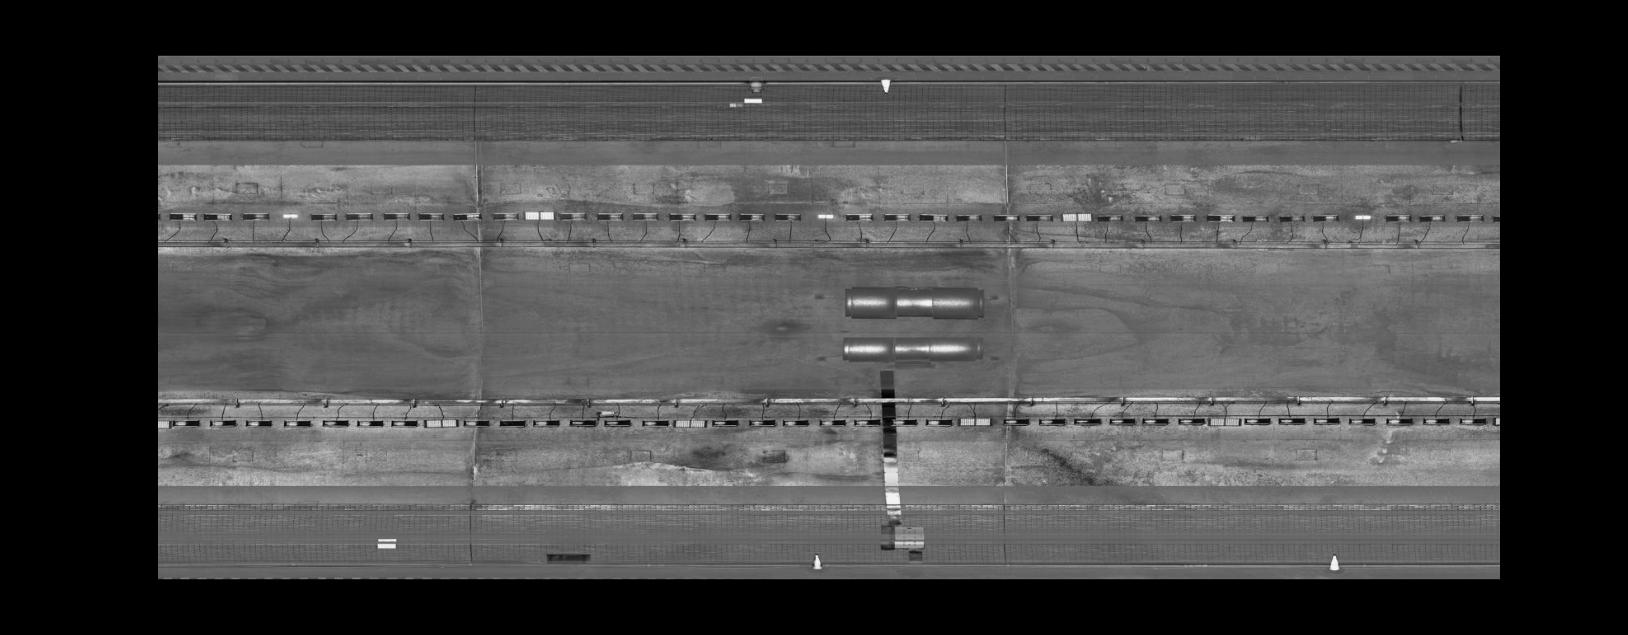light: (420, 417, 460, 430), (557, 209, 590, 223), (672, 417, 709, 430), (1059, 211, 1093, 224), (664, 210, 699, 223), (522, 209, 557, 222), (344, 209, 375, 223), (1204, 212, 1238, 225), (594, 210, 627, 223), (450, 210, 483, 223), (199, 211, 235, 223), (1024, 211, 1056, 224), (1168, 211, 1199, 224), (629, 210, 660, 223), (380, 210, 411, 223), (1205, 416, 1242, 427), (957, 416, 994, 427), (166, 211, 199, 223), (916, 212, 951, 223), (1454, 211, 1486, 223), (702, 211, 734, 223), (238, 211, 272, 222), (1239, 213, 1270, 225), (1132, 212, 1163, 224), (953, 211, 984, 223), (881, 211, 913, 223), (489, 210, 520, 222), (416, 210, 447, 222), (308, 211, 340, 223), (747, 416, 778, 429), (567, 416, 598, 429), (1457, 415, 1490, 426), (1383, 212, 1413, 224), (991, 211, 1021, 223), (843, 211, 875, 222), (496, 417, 528, 429), (460, 416, 492, 427), (1094, 213, 1125, 224), (736, 212, 767, 223), (1242, 415, 1273, 426), (999, 416, 1030, 427), (889, 416, 920, 427), (711, 416, 742, 427), (353, 418, 387, 429), (319, 417, 353, 427), (205, 417, 239, 427), (1309, 213, 1342, 223), (1036, 416, 1069, 426), (280, 418, 314, 429), (241, 418, 274, 429), (1277, 213, 1307, 224), (852, 417, 883, 429), (1416, 213, 1448, 223), (1420, 416, 1453, 426), (1383, 416, 1415, 426), (1346, 416, 1378, 426), (1309, 416, 1341, 426), (1275, 416, 1307, 426), (1071, 416, 1104, 426), (771, 212, 803, 222), (1176, 416, 1208, 426), (1139, 416, 1170, 426), (640, 418, 671, 429), (603, 418, 634, 429), (389, 419, 420, 430), (924, 417, 954, 427), (817, 417, 847, 427), (781, 417, 811, 427), (530, 418, 562, 427), (171, 418, 203, 427), (1108, 416, 1137, 425), (1351, 212, 1375, 222), (278, 212, 302, 220), (814, 212, 835, 221), (157, 419, 171, 429), (1490, 211, 1499, 224), (1491, 413, 1499, 427)
